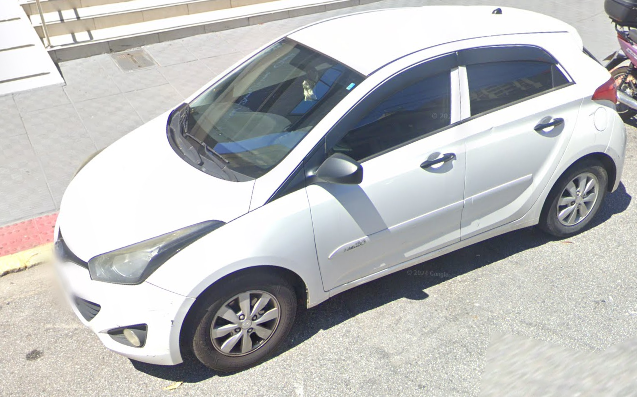car: (49, 4, 628, 370)
